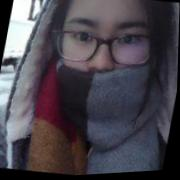WRONG: (43, 2, 161, 134)
